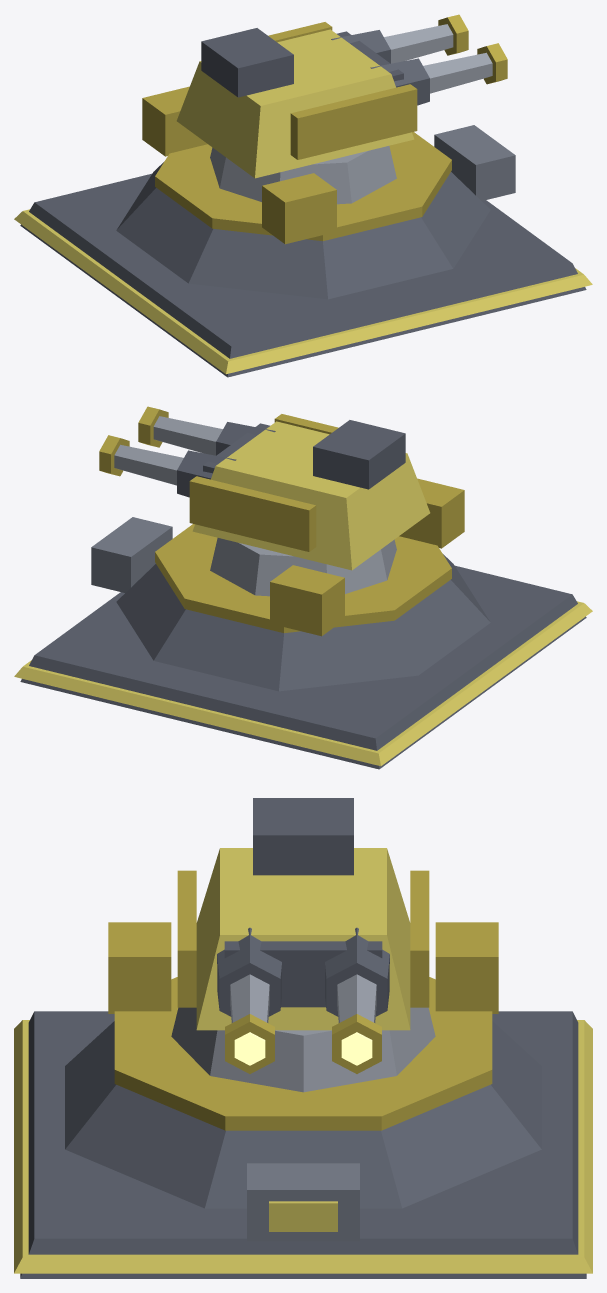
Rendered from turret.glb.
The picture shows the model from 3 angles, top to bottom: view 1: azimuth 30°, elevation 25°; view 2: azimuth 150°, elevation 25°; view 3: azimuth 270°, elevation 25°; orthographic projection. The views are drawn at different scales.
Parts seen in each view (by area): view 1: Body, HeadMesh, BarrelMesh; view 2: Body, HeadMesh, BarrelMesh; view 3: Body, HeadMesh, BarrelMesh, GlowMuzzle.
Part boxes in pixels (x1,y1,x2,y2): Body: (14, 86, 592, 377); HeadMesh: (176, 22, 417, 178); BarrelMesh: (331, 14, 507, 105); Body: (14, 478, 592, 769); HeadMesh: (189, 414, 430, 570); BarrelMesh: (99, 406, 275, 497); Body: (14, 922, 592, 1278); HeadMesh: (177, 798, 429, 1030); BarrelMesh: (217, 927, 389, 1073); GlowMuzzle: (234, 1032, 372, 1065).
Bounding box in the file's own units: 0.948 × 0.535 × 0.92.
